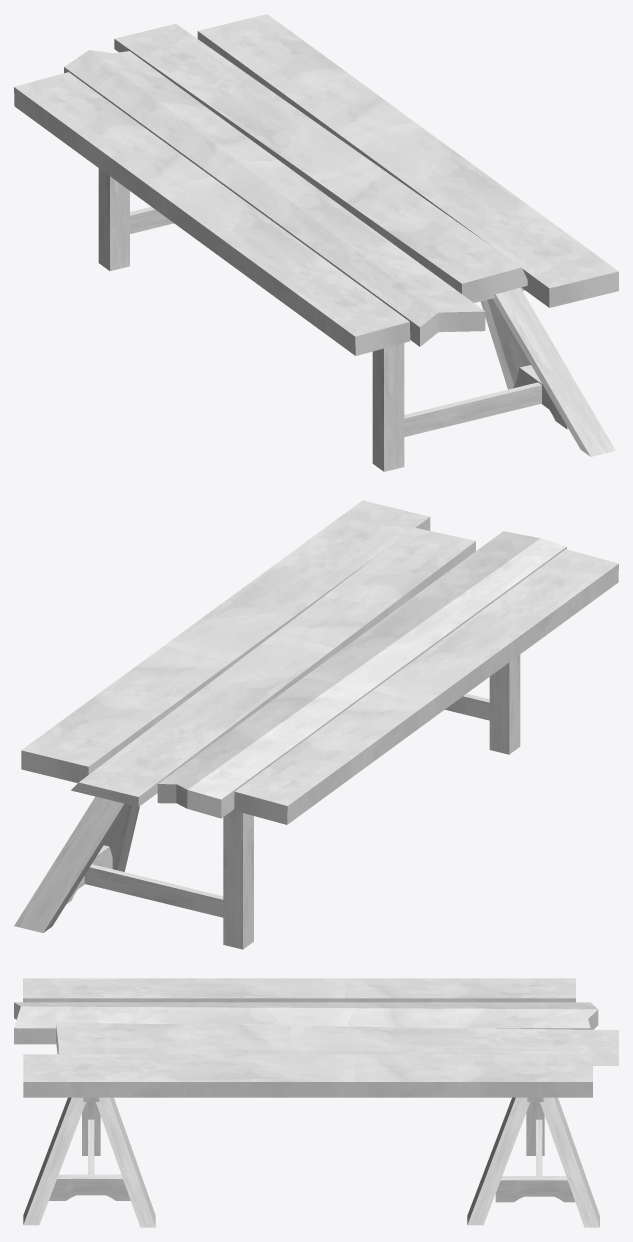
The model's file is Table.fbx.
The picture shows the model from 3 angles, top to bottom: view 1: azimuth 30°, elevation 25°; view 2: azimuth 150°, elevation 25°; view 3: azimuth 270°, elevation 25°; orthographic projection. The views are drawn at different scales.
Parts seen in each view (by area): view 1: table; view 2: table; view 3: table.
Boxes of the visible parts, <box> form: table: <box>14,14,618,471</box>; table: <box>14,500,618,949</box>; table: <box>14,978,618,1227</box>.
Bounding box in the file's own units: 1.86 × 1.23 × 4.52.
